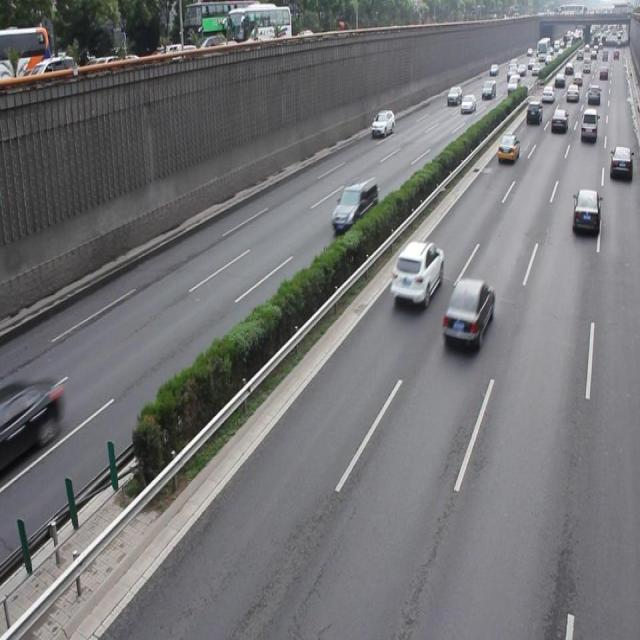car: (1, 378, 65, 463), (440, 274, 494, 352), (390, 236, 443, 310), (570, 188, 599, 234), (609, 144, 632, 181)
truck: (330, 177, 377, 230)
